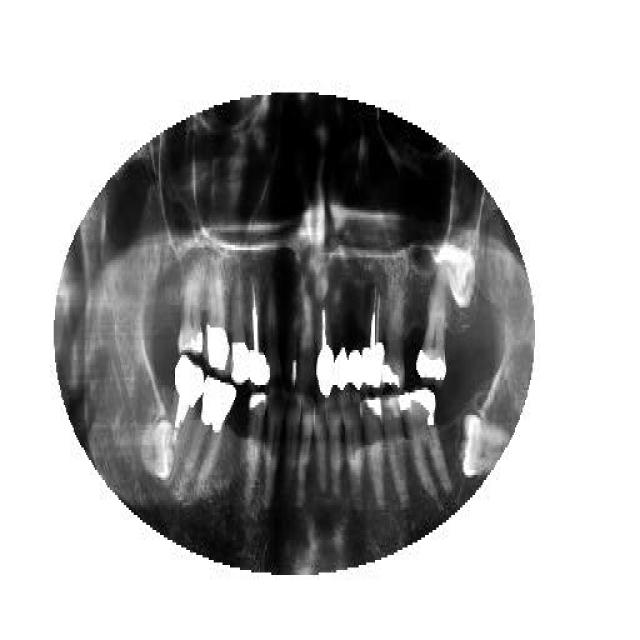Fillings: (398, 388, 450, 498), (188, 375, 238, 487), (417, 280, 448, 380), (205, 275, 233, 375), (178, 270, 206, 355), (245, 388, 266, 498), (230, 275, 250, 383), (364, 400, 385, 500), (385, 290, 405, 390), (334, 295, 351, 393), (348, 288, 362, 390)
Impacted Tooth: (460, 408, 510, 480), (138, 413, 176, 485)
Implant: (165, 353, 204, 485), (248, 270, 272, 392), (361, 280, 384, 392), (317, 295, 335, 395)
